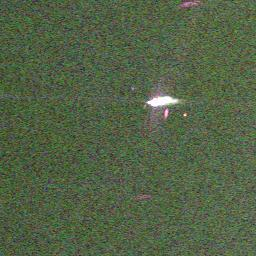Ship: (144, 94, 180, 108)
